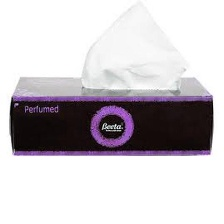book: (6, 73, 216, 159)
tissue: (78, 0, 193, 93)
